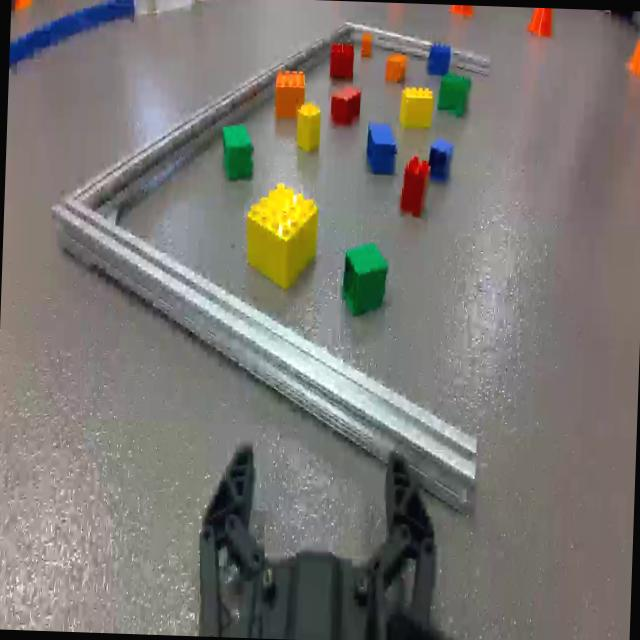block: (244, 182, 318, 289), (398, 86, 434, 128), (296, 102, 320, 152)
blue: (428, 139, 452, 181), (426, 44, 451, 78)
cone: (627, 12, 640, 79), (528, 7, 554, 38), (449, 4, 474, 18), (12, 0, 31, 10)
green: (341, 243, 388, 318), (220, 124, 254, 182), (438, 72, 470, 116)
metal barrier: (41, 10, 498, 519)
orange: (367, 124, 397, 176), (274, 70, 307, 116), (384, 53, 406, 85), (360, 34, 372, 56)
red goal: (401, 156, 426, 215), (331, 88, 360, 125), (328, 42, 355, 80)
river: (8, 0, 131, 77)
storage cube: (134, 0, 200, 17)
